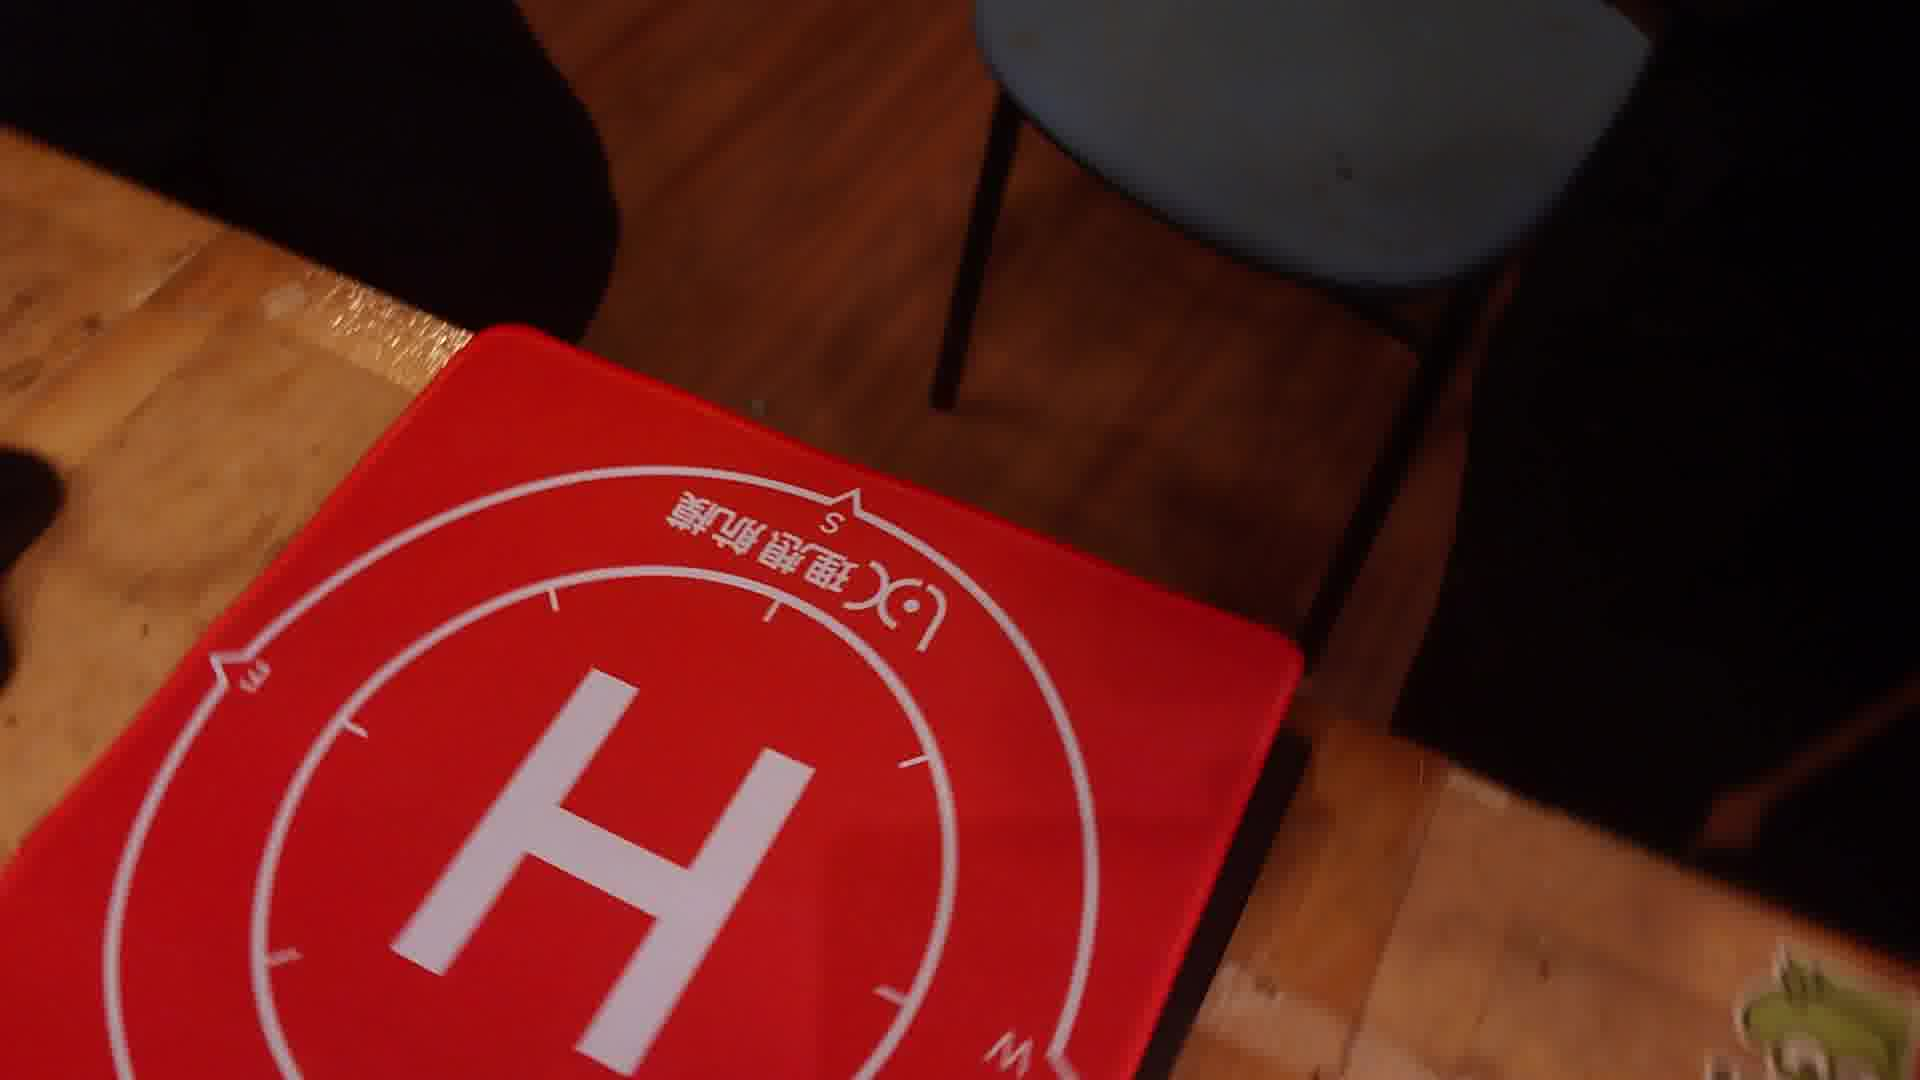H: (386, 665, 820, 1077)
